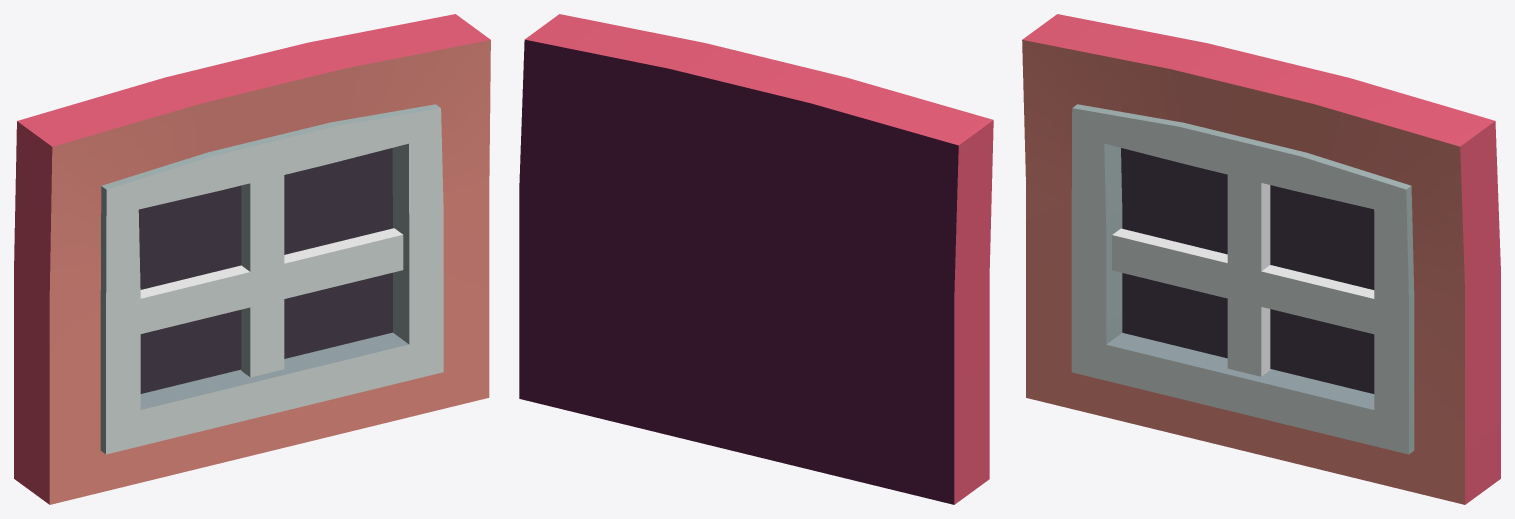
The model's file is Window02_Pink_White.glb.
3 views of the same model, side by side, from view 1: azimuth 30°, elevation 25°; view 2: azimuth 150°, elevation 25°; view 3: azimuth 330°, elevation 25° (orthographic).
Parts seen in each view (by area): view 1: Window02_Pink_White; view 2: Window02_Pink_White; view 3: Window02_Pink_White.
Part boxes in pixels (x1,y1,x2,y2): Window02_Pink_White: (14, 14, 490, 504); Window02_Pink_White: (519, 14, 993, 504); Window02_Pink_White: (1022, 14, 1500, 504).
Bounding box in the file's own units: 0.9012 × 0.7186 × 0.1456.
Materials: 1 (1 with a texture image).
